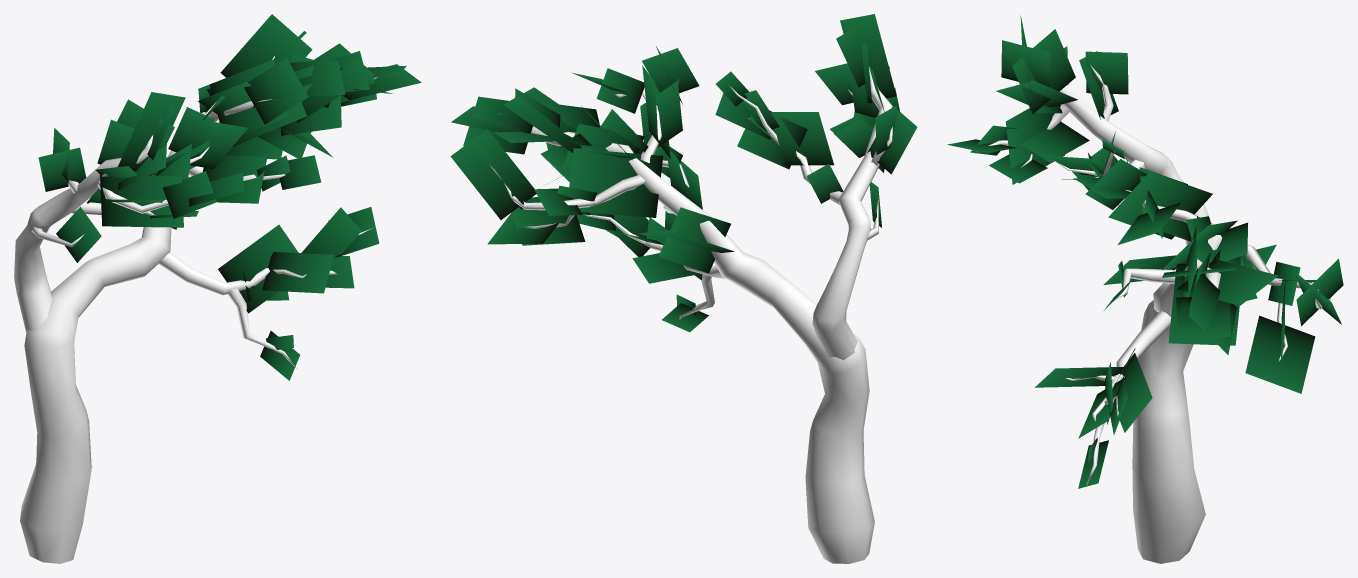
The model's file is SM_TreeWindswept02.fbx.
3 views of the same model, side by side, from view 1: azimuth 30°, elevation 25°; view 2: azimuth 150°, elevation 25°; view 3: azimuth 270°, elevation 25° (orthographic). The views are drawn at different scales.
Parts seen in each view (by area): view 1: SM_TreeWindswept02_LOD0; view 2: SM_TreeWindswept02_LOD0; view 3: SM_TreeWindswept02_LOD0.
Part boxes in pixels (bbox=[...]): SM_TreeWindswept02_LOD0: bbox=[14, 14, 421, 563]; SM_TreeWindswept02_LOD0: bbox=[450, 14, 917, 563]; SM_TreeWindswept02_LOD0: bbox=[947, 15, 1343, 563].
Bounding box in the file's own units: 1029 × 1179 × 760.
